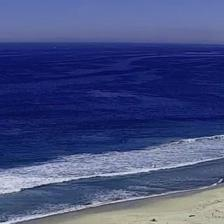surfer: (11, 158, 14, 162)
